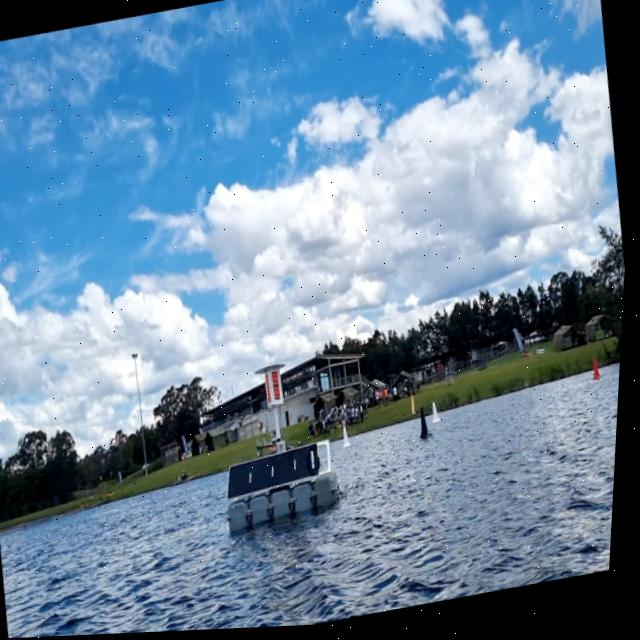led: (272, 370, 289, 407), (268, 375, 278, 408)
